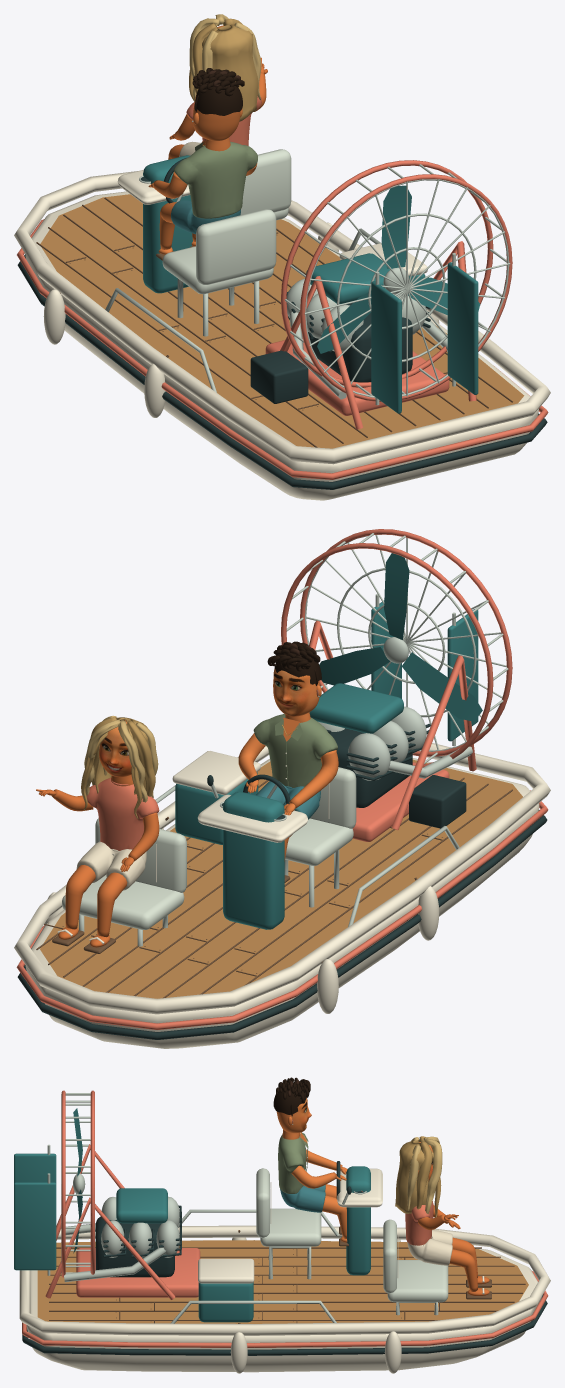
Rendered from airboat-couple-v5.glb.
3 renders of one model, top to bottom at view 1: azimuth 30°, elevation 25°; view 2: azimuth 150°, elevation 25°; view 3: azimuth 270°, elevation 25°, orthographic. The views are drawn at different scales.
Visible parts, largest first — view 1: Hull_teak, Hull_cream, Hull_coral, Hull_teal, Hull_chrome, Hull_rubber, Hull_canvas, Barron_shirt, Fan_teal, Hull_seam, NinaHead_hairN, BarronHead_hairB (+4 smaller); view 2: Hull_teak, Hull_cream, Hull_teal, Hull_coral, Hull_chrome, Hull_rubber, Hull_canvas, Fan_teal, Hull_seam, Barron_shirt, Nina_skinN, Nina_ninaShirt (+9 smaller); view 3: Hull_cream, Hull_teak, Hull_teal, Hull_coral, Hull_chrome, Hull_canvas, Hull_rubber, Hull_seam, NinaHead_hairN, Barron_shirt, Nina_skinN, Barron_skinB (+8 smaller).
Part boxes in pixels (box(x1,y1,x2,y2)): Hull_teak: box(40, 194, 524, 448); Hull_cream: box(14, 169, 550, 500); Hull_coral: box(17, 160, 548, 479); Hull_teal: box(143, 155, 478, 413); Hull_chrome: box(105, 164, 510, 405); Hull_rubber: box(17, 158, 547, 489); Hull_canvas: box(162, 149, 291, 294); Barron_shirt: box(173, 141, 257, 218); Fan_teal: box(317, 185, 480, 353); Hull_seam: box(36, 197, 512, 447); NinaHead_hairN: box(189, 18, 258, 121); BarronHead_hairB: box(192, 68, 244, 115); Hull_teak: box(40, 759, 522, 998); Hull_cream: box(14, 743, 550, 1048); Hull_teal: box(175, 600, 478, 929); Hull_coral: box(16, 529, 548, 1029); Hull_chrome: box(79, 533, 508, 946); Hull_rubber: box(17, 723, 547, 1039); Hull_canvas: box(62, 767, 356, 929); Fan_teal: box(319, 553, 482, 721); Hull_seam: box(36, 776, 512, 998); Barron_shirt: box(253, 714, 337, 787); Nina_skinN: box(58, 774, 159, 947); Nina_ninaShirt: box(86, 777, 159, 850); Hull_cream: box(19, 1168, 550, 1373); Hull_teak: box(37, 1240, 528, 1323); Hull_teal: box(14, 1153, 370, 1322); Hull_coral: box(22, 1090, 548, 1347); Hull_chrome: box(47, 1093, 438, 1323); Hull_canvas: box(256, 1168, 448, 1302); Hull_rubber: box(22, 1161, 547, 1355); Hull_seam: box(49, 1230, 525, 1323); NinaHead_hairN: box(395, 1136, 441, 1217); Barron_shirt: box(278, 1132, 308, 1193); Nina_skinN: box(433, 1204, 489, 1295); Barron_skinB: box(282, 1129, 347, 1242).
Size of the model in its own units: 3.36 by 3.43 by 6.97.
25 materials, 4 textured.
